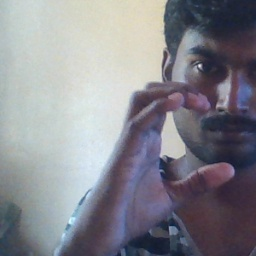C: (113, 75, 243, 207)
